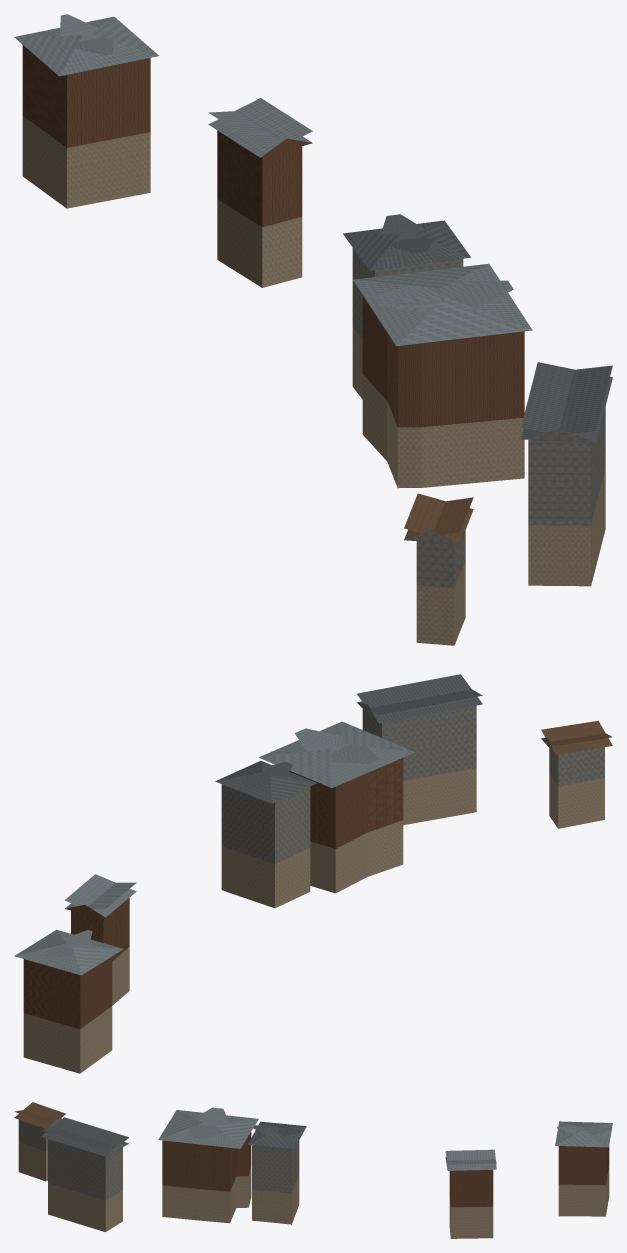
The model's file is bld_c23_-48_529.gltf.
3 renders of one model, top to bottom at view 1: azimuth 30°, elevation 25°; view 2: azimuth 150°, elevation 25°; view 3: azimuth 270°, elevation 25°, orthographic. The views are drawn at different scales.
Visible parts, largest first — view 1: bld_c23_-48_529; view 2: bld_c23_-48_529; view 3: bld_c23_-48_529.
Part boxes in pixels (bbox=[...]): bld_c23_-48_529: bbox=[14, 14, 612, 645]; bld_c23_-48_529: bbox=[14, 674, 612, 1073]; bld_c23_-48_529: bbox=[14, 1102, 612, 1238].
Size of the model in its own units: 27.11 by 15.3 by 87.75.
8 materials, 8 textured.
